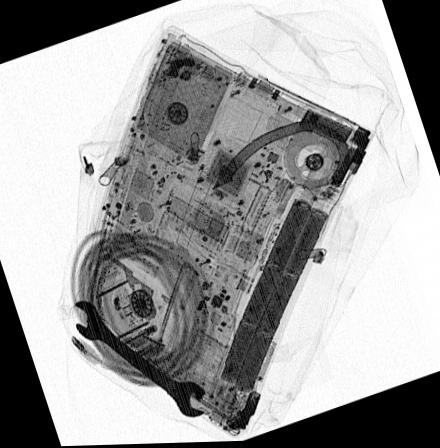Wrench: (73, 300, 207, 422)
